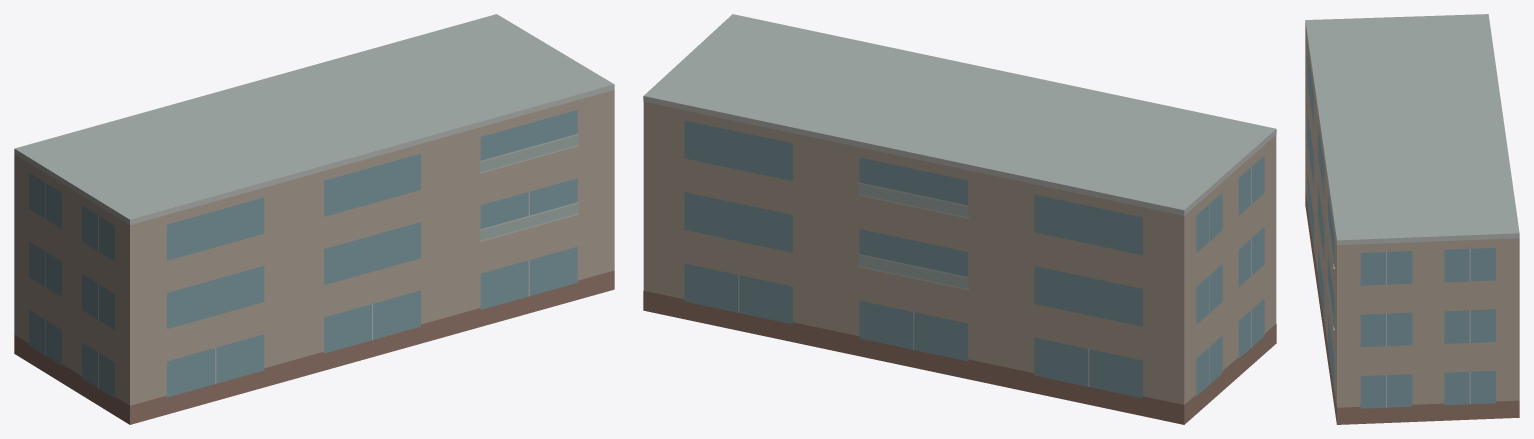
The model's file is survey-upis-32804743.glb.
The picture shows the model from 3 angles, left to right: view 1: azimuth 30°, elevation 25°; view 2: azimuth 150°, elevation 25°; view 3: azimuth 270°, elevation 25°; orthographic projection. The views are drawn at different scales.
Visible parts, largest first — view 1: survey-upis-32804743.tmp; view 2: survey-upis-32804743.tmp; view 3: survey-upis-32804743.tmp.
Part boxes in pixels (x1=…): survey-upis-32804743.tmp: x1=14, y1=14, x2=614, y2=424; survey-upis-32804743.tmp: x1=643, y1=14, x2=1276, y2=424; survey-upis-32804743.tmp: x1=1305, y1=14, x2=1519, y2=424.
Size of the model in its own units: 24.23 by 9.2 by 9.7.
